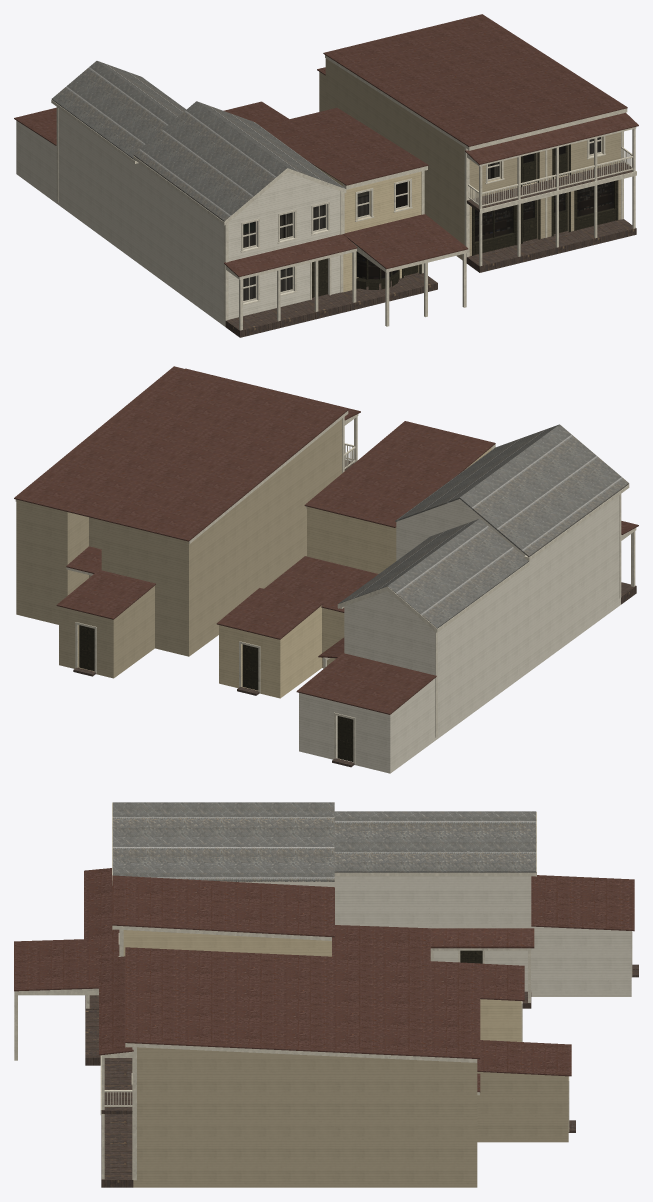
The model's file is block-24-30.glb.
3 renders of one model, top to bottom at view 1: azimuth 30°, elevation 25°; view 2: azimuth 150°, elevation 25°; view 3: azimuth 270°, elevation 25°, orthographic. The views are drawn at different scales.
Visible parts, largest first — view 1: Block2430; view 2: Block2430; view 3: Block2430.
Part boxes in pixels (x1=…): Block2430: x1=14, y1=14, x2=638, y2=337; Block2430: x1=14, y1=366, x2=638, y2=773; Block2430: x1=14, y1=802, x2=638, y2=1187.
Size of the model in its own units: 23.37 by 8.06 by 25.33.
10 materials, 9 textured.
